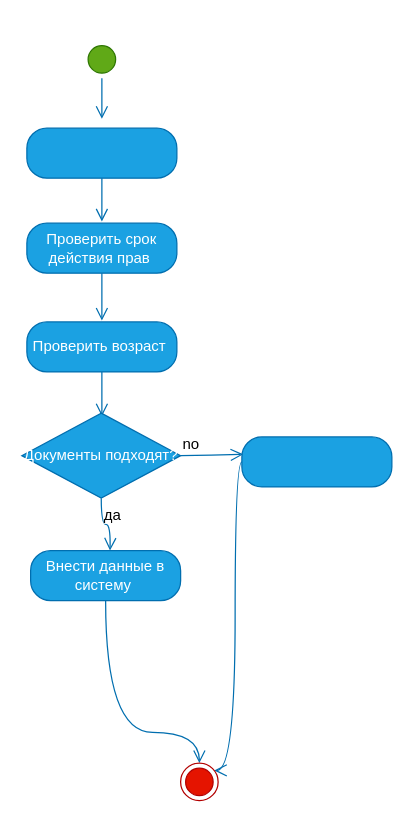
This 414x823 diagram has some shape labels left out. The shapes that lost their labels are listed below. From the top down, each one's box as (x1, y1, x2, y2) in pixels, then its label:
(26, 127, 177, 178): Получить документы
(241, 436, 392, 487): Сообщить об отказе
